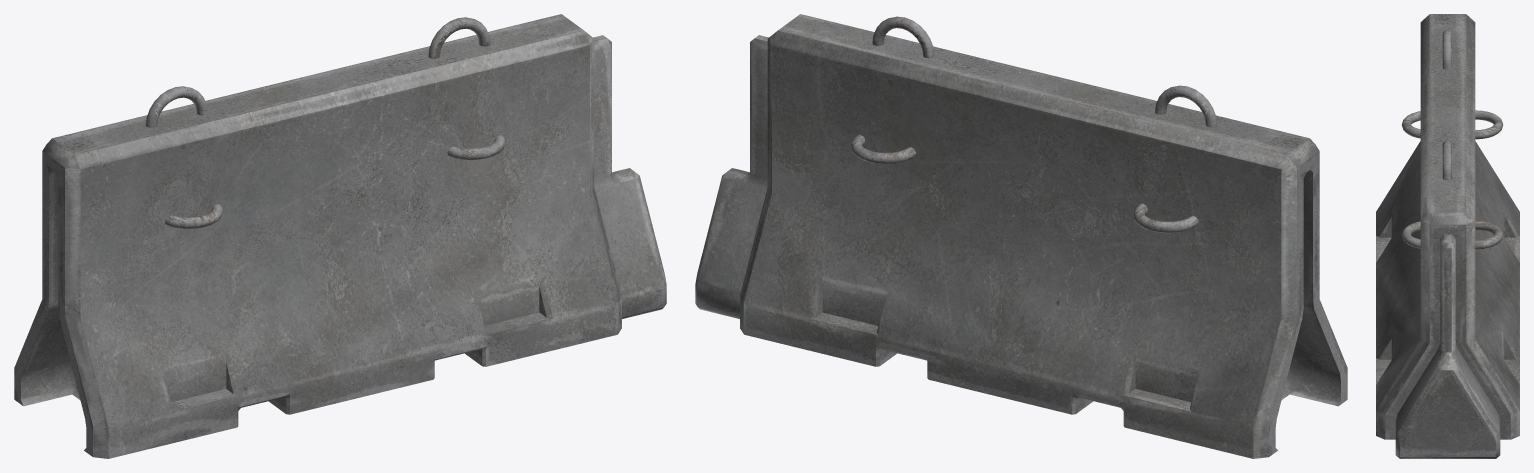
The model's file is Barrier_Long.obj.
3 renders of one model, left to right at view 1: azimuth 30°, elevation 25°; view 2: azimuth 150°, elevation 25°; view 3: azimuth 270°, elevation 25°, orthographic. The views are drawn at different scales.
Parts seen in each view (by area): view 1: Box003; view 2: Box003; view 3: Box003.
Boxes of the visible parts, x1,y1,x2,y2 form: Box003: (14,14,666,458); Box003: (695,14,1347,458); Box003: (1376,14,1519,458).
Size of the model in its own units: 65.16 by 33.27 by 17.42.
